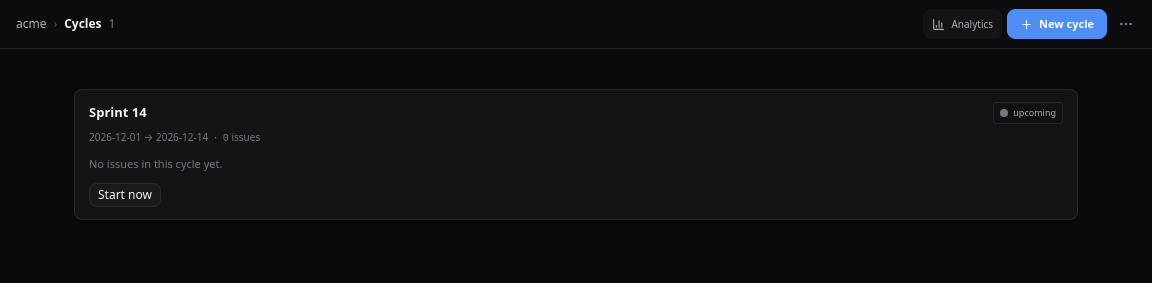
Test: manual start/end actions (C79T1) › a 409 on start surfaces the named conflicting cycle inline and stays actionable
What coordinates should you click on to do the following:
click the button "Start now"
I would click on:
 (125, 194)
Its box is top-left (89, 182), bottom-right (161, 206).
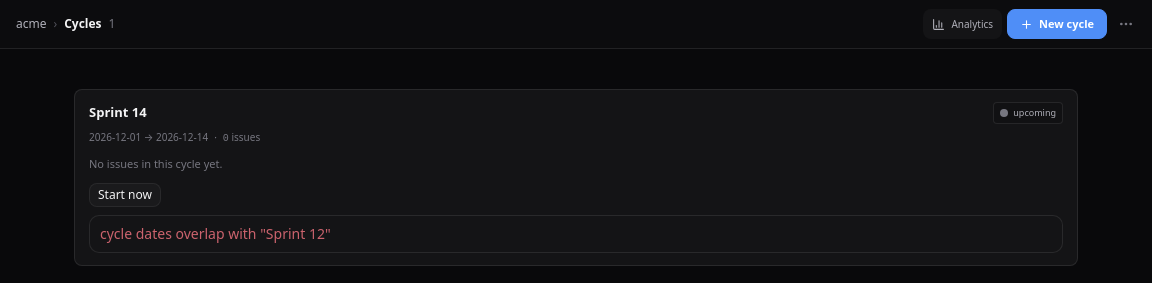
Expected: the text "cycle dates overlap with \"Sprint 12\"" is shown, top-left (100, 224), bottom-right (331, 242)
